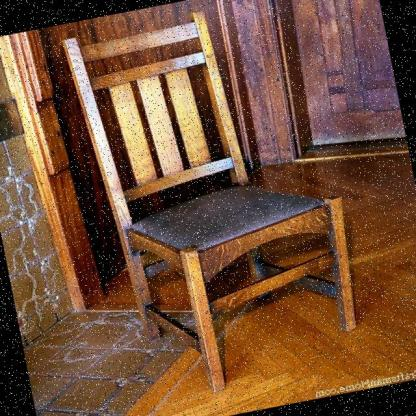Chair: (58, 0, 392, 405)
